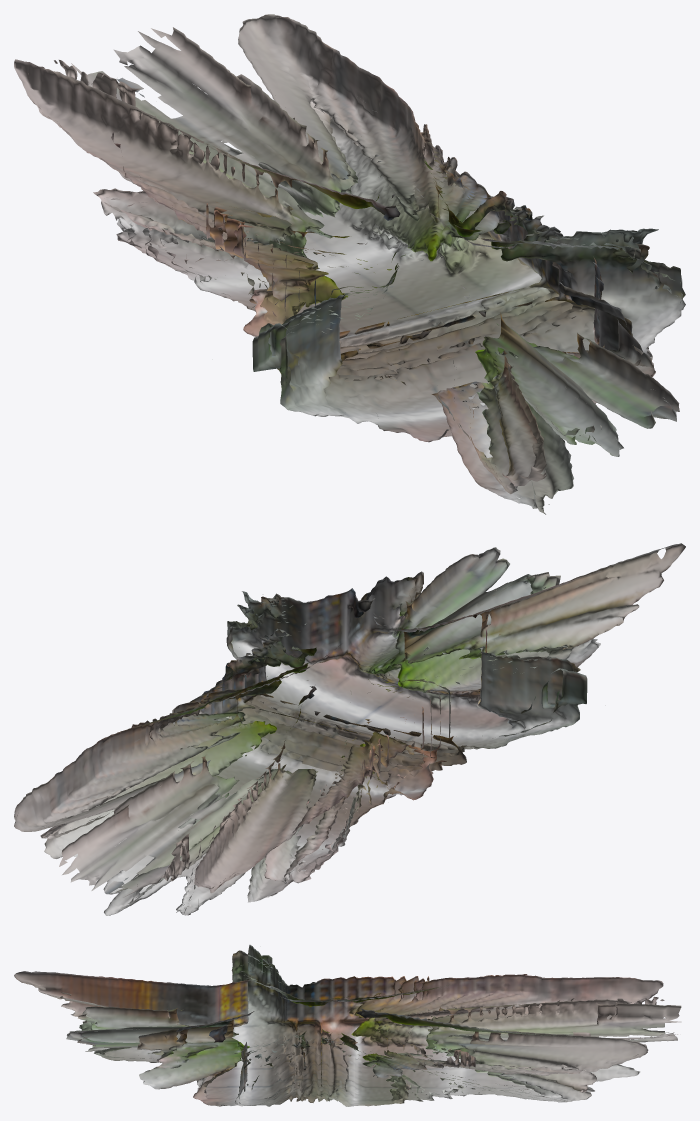
The model's file is gen-52.glb.
3 renders of one model, top to bottom at view 1: azimuth 30°, elevation 25°; view 2: azimuth 150°, elevation 25°; view 3: azimuth 270°, elevation 25°, orthographic. The views are drawn at different scales.
Visible parts, largest first — view 1: world; view 2: world; view 3: world.
Part boxes in pixels (x1,y1,x2,y2): world: [14, 14, 685, 514]; world: [14, 543, 685, 915]; world: [14, 945, 681, 1106].
Bounding box in the file's own units: 8.96 × 2.48 × 19.3.
